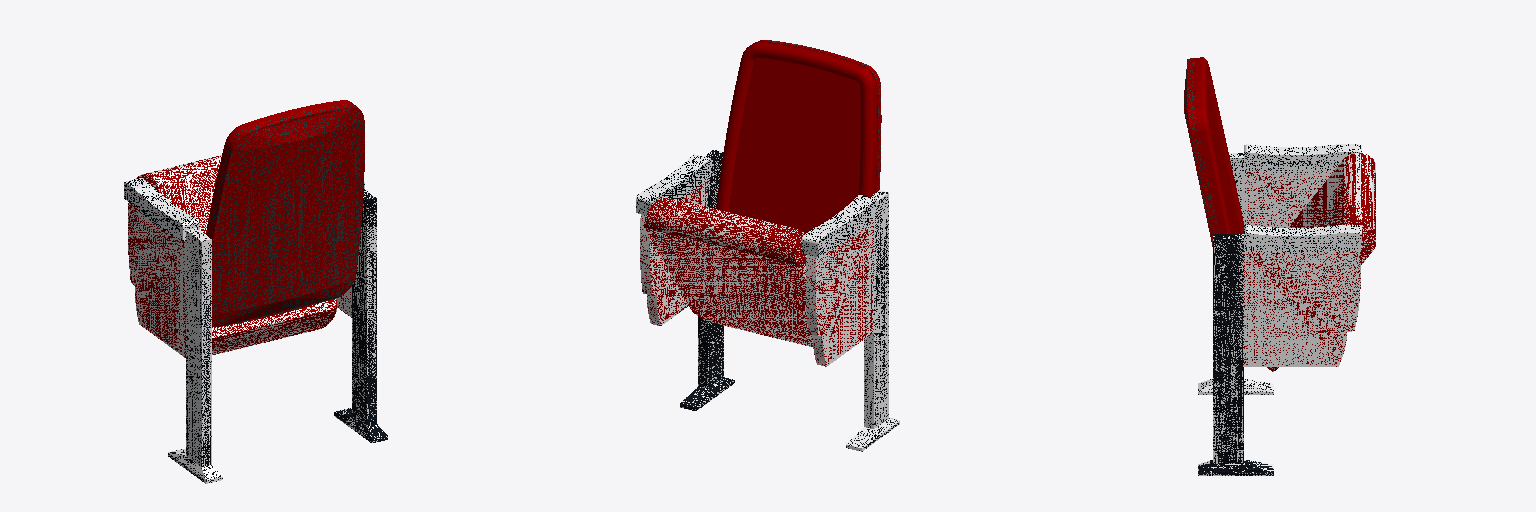
3 renders of one model, left to right at view 1: azimuth 30°, elevation 25°; view 2: azimuth 150°, elevation 25°; view 3: azimuth 270°, elevation 25°, orthographic.
Visible parts, largest first — view 1: mesh2_mesh2-geometry, mesh3_mesh3-geometry, mesh1_mesh1-geometry, mesh4_mesh4-geometry; view 2: mesh2_mesh2-geometry, mesh1_mesh1-geometry, mesh3_mesh3-geometry, mesh4_mesh4-geometry; view 3: mesh4_mesh4-geometry, mesh3_mesh3-geometry, mesh2_mesh2-geometry, mesh1_mesh1-geometry.
Part boxes in pixels (bbox=[...]): mesh2_mesh2-geometry: bbox=[206, 100, 364, 326]; mesh3_mesh3-geometry: bbox=[124, 178, 222, 483]; mesh1_mesh1-geometry: bbox=[136, 155, 336, 354]; mesh4_mesh4-geometry: bbox=[334, 180, 387, 442]; mesh2_mesh2-geometry: bbox=[716, 40, 881, 233]; mesh1_mesh1-geometry: bbox=[644, 197, 812, 346]; mesh3_mesh3-geometry: bbox=[801, 190, 899, 451]; mesh4_mesh4-geometry: bbox=[636, 150, 734, 410]; mesh4_mesh4-geometry: bbox=[1198, 225, 1361, 475]; mesh3_mesh3-geometry: bbox=[1198, 144, 1361, 394]; mesh2_mesh2-geometry: bbox=[1184, 57, 1244, 246]; mesh1_mesh1-geometry: bbox=[1267, 153, 1375, 371].
Size of the model in its own units: 0.4375 by 0.8051 by 0.4005.
Materials: 5 (1 with a texture image).